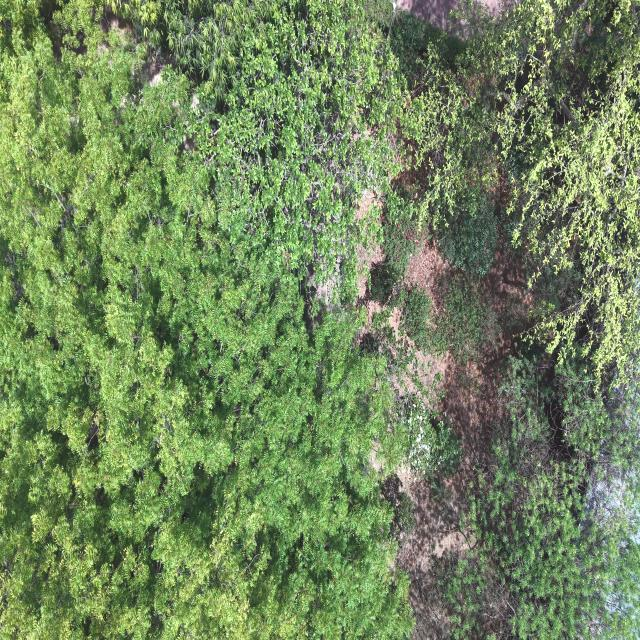DRY_AREA: (385, 237, 532, 639), (386, 238, 532, 639), (388, 247, 530, 639), (396, 241, 531, 639), (432, 242, 532, 463), (444, 240, 532, 463), (384, 463, 471, 639), (385, 462, 471, 639), (386, 471, 472, 639), (397, 468, 468, 576), (366, 0, 517, 38), (405, 240, 449, 295), (358, 244, 384, 334), (397, 0, 458, 28), (358, 243, 383, 303), (474, 0, 506, 15)
VEGETATION_TREE: (0, 0, 639, 639), (0, 1, 411, 639), (392, 1, 639, 636), (397, 1, 639, 637), (414, 1, 639, 381), (119, 0, 405, 294), (490, 2, 639, 382), (439, 357, 639, 639), (370, 189, 497, 360), (404, 271, 494, 362), (436, 185, 498, 275), (405, 404, 461, 478), (381, 191, 425, 276)
